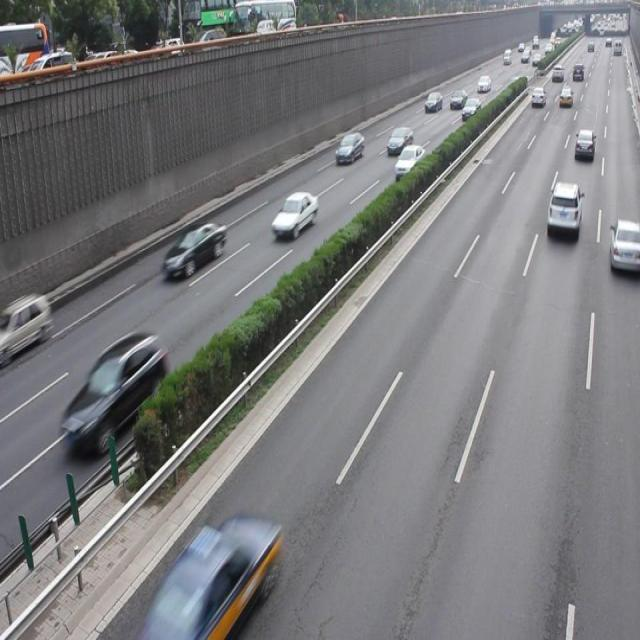car: (149, 514, 279, 640), (61, 329, 168, 458), (162, 221, 227, 279), (270, 192, 318, 238), (608, 216, 640, 277), (545, 180, 580, 232), (393, 143, 424, 177), (336, 132, 364, 164)
